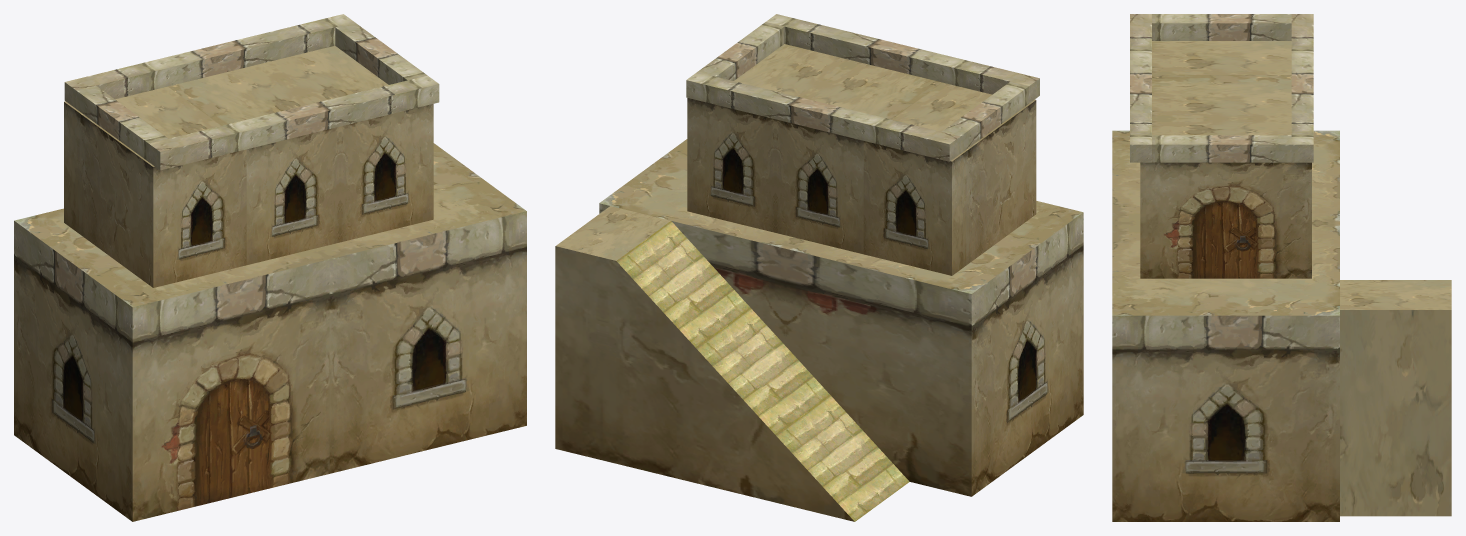
File: shamo_fangzi_2.fbx
3 renders of one model, left to right at view 1: azimuth 30°, elevation 25°; view 2: azimuth 150°, elevation 25°; view 3: azimuth 270°, elevation 25°, orthographic. The views are drawn at different scales.
Visible parts, largest first — view 1: polySurface52, polySurface53, polySurface54, polySurface55, polySurface57, polySurface56; view 2: polySurface52, polySurface53, polySurface58, polySurface59, polySurface55, polySurface54, polySurface57, polySurface56; view 3: polySurface52, polySurface53, polySurface58, polySurface56, polySurface57, polySurface55, polySurface54.
Boxes of the visible parts, left/top/right/bottom form: polySurface52: left=14, top=143, right=526, bottom=521; polySurface53: left=64, top=46, right=433, bottom=287; polySurface54: left=148, top=75, right=439, bottom=170; polySurface55: left=64, top=14, right=354, bottom=108; polySurface57: left=76, top=85, right=168, bottom=161; polySurface56: left=335, top=22, right=427, bottom=84; polySurface52: left=599, top=139, right=1083, bottom=496; polySurface53: left=687, top=44, right=1036, bottom=275; polySurface58: left=555, top=206, right=854, bottom=521; polySurface59: left=616, top=221, right=909, bottom=521; polySurface55: left=686, top=72, right=960, bottom=161; polySurface54: left=766, top=14, right=1039, bottom=103; polySurface57: left=942, top=81, right=1028, bottom=153; polySurface56: left=697, top=22, right=784, bottom=80; polySurface52: left=1112, top=130, right=1339, bottom=521; polySurface53: left=1140, top=41, right=1311, bottom=278; polySurface58: left=1340, top=280, right=1451, bottom=516; polySurface56: left=1152, top=135, right=1291, bottom=162; polySurface57: left=1152, top=14, right=1291, bottom=40; polySurface55: left=1291, top=14, right=1313, bottom=162; polySurface54: left=1130, top=14, right=1151, bottom=162.
Size of the model in its own units: 11.33 by 9.73 by 8.78.
